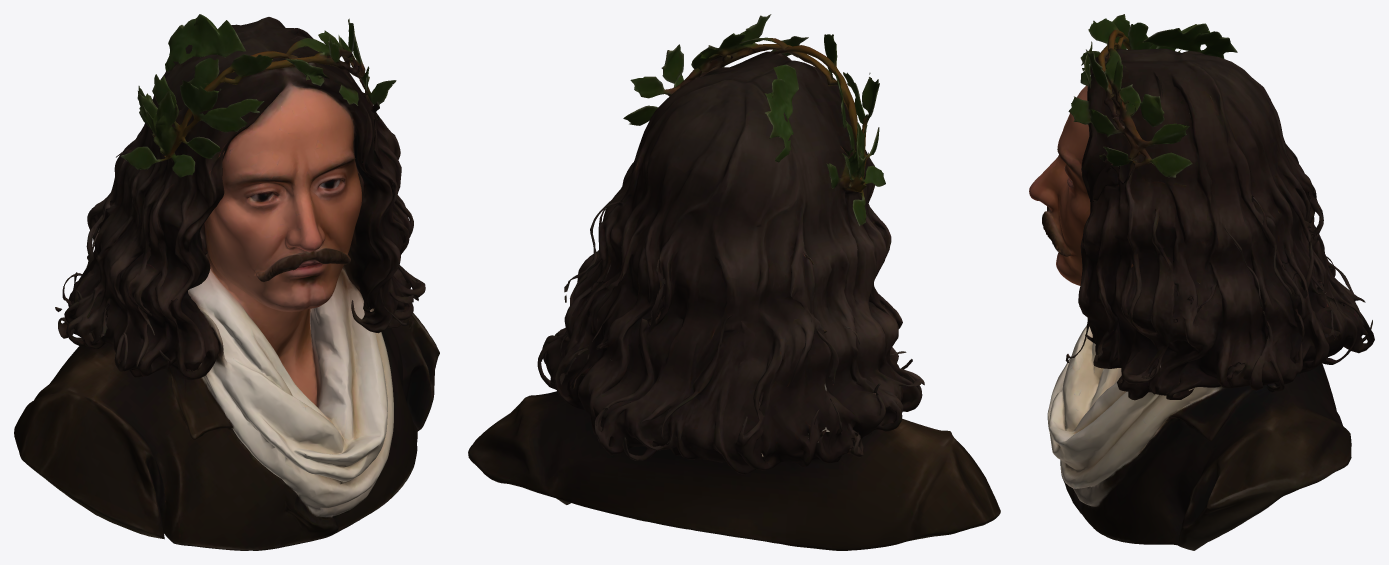
Rendered from birken.glb.
The picture shows the model from 3 angles, left to right: view 1: azimuth 30°, elevation 25°; view 2: azimuth 150°, elevation 25°; view 3: azimuth 270°, elevation 25°; orthographic projection. The views are drawn at different scales.
Visible parts, largest first — view 1: geometry_0; view 2: geometry_0; view 3: geometry_0.
Part boxes in pixels (<box>): geometry_0: <box>14,14,439,550</box>; geometry_0: <box>468,14,1000,550</box>; geometry_0: <box>1029,14,1374,550</box>.
Size of the model in its own units: 0.9253 by 1 by 0.6759.
1 material, 1 textured.
